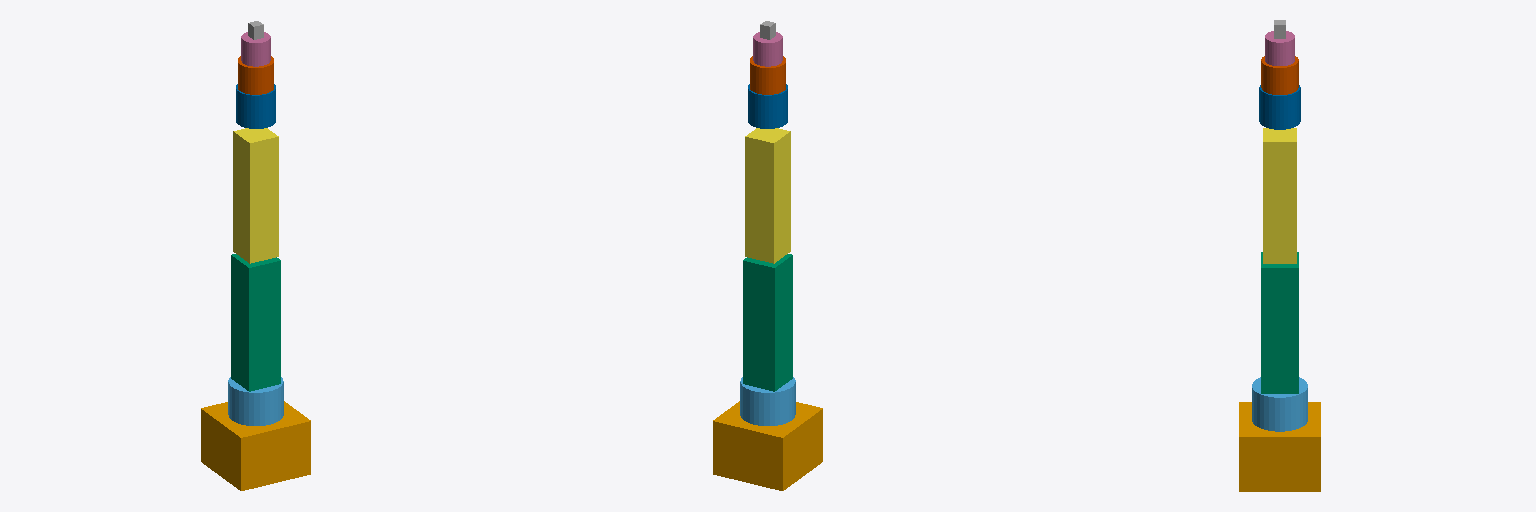
URDF robot description (sample6):
<?xml version="1.0"?>
<!--
  ПРИМЕР URDF ДЛЯ ПРОВЕРКИ ИМПОРТА (этап 12 ТЗ).
  Простая 6-осевая цепь: база → 6 звеньев (прямоугольные корпуса) → TCP.
  Модель учебная: она нужна, чтобы оператор мог сразу проверить импорт
  («Файл → Импорт модели робота» → «Обновить список» → «Импортировать» → «Проверить кинематику»).
  Свою модель положите в ту же папку (StreamingAssets/robots) или в
  «Документы\KazistovVv\robot_models».
-->
<robot name="sample6">
  <link name="base_link">
    <visual>
      <origin xyz="0 0 0.08" rpy="0 0 0"/>
      <geometry><box size="0.22 0.22 0.16"/></geometry>
    </visual>
  </link>

  <joint name="j1" type="revolute">
    <parent link="base_link"/>
    <child link="link1"/>
    <origin xyz="0 0 0.16" rpy="0 0 0"/>
    <axis xyz="0 0 1"/>
    <limit lower="-3.14" upper="3.14" effort="120" velocity="2.0"/>
  </joint>
  <link name="link1">
    <visual>
      <origin xyz="0 0 0.05" rpy="0 0 0"/>
      <geometry><cylinder radius="0.075" length="0.10"/></geometry>
    </visual>
  </link>

  <joint name="j2" type="revolute">
    <parent link="link1"/>
    <child link="link2"/>
    <origin xyz="0 0 0.10" rpy="0 0 0"/>
    <axis xyz="0 1 0"/>
    <limit lower="-1.75" upper="1.75" effort="120" velocity="2.0"/>
  </joint>
  <link name="link2">
    <visual>
      <origin xyz="0 0 0.16" rpy="0 0 0"/>
      <geometry><box size="0.10 0.10 0.42"/></geometry>
    </visual>
  </link>

  <joint name="j3" type="revolute">
    <parent link="link2"/>
    <child link="link3"/>
    <origin xyz="0 0 0.42" rpy="0 0 0"/>
    <axis xyz="0 1 0"/>
    <limit lower="-2.35" upper="2.35" effort="90" velocity="2.2"/>
  </joint>
  <link name="link3">
    <visual>
      <origin xyz="0 0 0.14" rpy="0 0 0"/>
      <geometry><box size="0.09 0.09 0.36"/></geometry>
    </visual>
  </link>

  <joint name="j4" type="revolute">
    <parent link="link3"/>
    <child link="link4"/>
    <origin xyz="0 0 0.36" rpy="0 0 0"/>
    <axis xyz="1 0 0"/>
    <limit lower="-3.05" upper="3.05" effort="30" velocity="3.0"/>
  </joint>
  <link name="link4">
    <visual>
      <origin xyz="0 0 0.05" rpy="0 0 0"/>
      <geometry><cylinder radius="0.055" length="0.10"/></geometry>
    </visual>
  </link>

  <joint name="j5" type="revolute">
    <parent link="link4"/>
    <child link="link5"/>
    <origin xyz="0 0 0.10" rpy="0 0 0"/>
    <axis xyz="0 1 0"/>
    <limit lower="-2.09" upper="2.09" effort="18" velocity="3.2"/>
  </joint>
  <link name="link5">
    <visual>
      <origin xyz="0 0 0.04" rpy="0 0 0"/>
      <geometry><cylinder radius="0.05" length="0.08"/></geometry>
    </visual>
  </link>

  <joint name="j6" type="revolute">
    <parent link="link5"/>
    <child link="link6"/>
    <origin xyz="0 0 0.08" rpy="0 0 0"/>
    <axis xyz="1 0 0"/>
    <limit lower="-6.28" upper="6.28" effort="12" velocity="3.5"/>
  </joint>
  <link name="link6">
    <visual>
      <origin xyz="0 0 0.035" rpy="0 0 0"/>
      <geometry><cylinder radius="0.04" length="0.07"/></geometry>
    </visual>
  </link>

  <joint name="tool_joint" type="fixed">
    <parent link="link6"/>
    <child link="tool0"/>
    <origin xyz="0 0 0.07" rpy="0 0 0"/>
  </joint>
  <link name="tool0">
    <visual>
      <origin xyz="0 0 0.02" rpy="0 0 0"/>
      <geometry><box size="0.03 0.03 0.04"/></geometry>
    </visual>
  </link>
</robot>

--- Render facts (derived) ---
3 views of the same robot in one strip: view 1: azimuth 30°, elevation 25°; view 2: azimuth 150°, elevation 25°; view 3: azimuth 270°, elevation 25° (orthographic).
Model sample6 with 8 links and 7 joints (6 revolute, 1 fixed), rooted at base_link, posed every joint at zero.
Links seen in each view (by area): view 1: base_link, link2, link3, link1, link4, link5, link6; view 2: base_link, link2, link3, link1, link4, link5, link6; view 3: base_link, link2, link3, link1, link4, link5, link6.
Boxes of the visible links, x1=… form: base_link: x1=201, y1=401, x2=310, y2=490; link2: x1=231, y1=254, x2=280, y2=391; link3: x1=233, y1=128, x2=278, y2=263; link1: x1=228, y1=377, x2=283, y2=425; link4: x1=236, y1=84, x2=275, y2=128; link5: x1=238, y1=56, x2=273, y2=94; link6: x1=241, y1=32, x2=270, y2=66; base_link: x1=713, y1=401, x2=822, y2=490; link2: x1=743, y1=254, x2=792, y2=391; link3: x1=745, y1=128, x2=790, y2=263; link1: x1=740, y1=377, x2=795, y2=425; link4: x1=748, y1=84, x2=787, y2=128; link5: x1=750, y1=56, x2=785, y2=94; link6: x1=753, y1=32, x2=782, y2=66; base_link: x1=1239, y1=402, x2=1320, y2=491; link2: x1=1261, y1=252, x2=1298, y2=393; link3: x1=1263, y1=128, x2=1296, y2=263; link1: x1=1252, y1=377, x2=1307, y2=431; link4: x1=1259, y1=85, x2=1300, y2=129; link5: x1=1261, y1=56, x2=1298, y2=94; link6: x1=1265, y1=31, x2=1294, y2=65.
Bounding box of the posed robot: 0.22 × 0.22 × 1.33 m (x, y, z).
Geometry: primitives only (box / cylinder / sphere), no mesh files.
